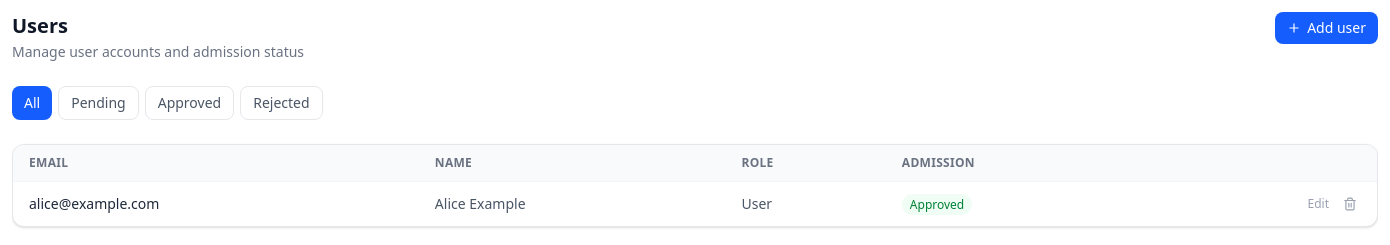
it: UsersPage › shows an empty state when no users match the filter
Check: the text "alice@example.com" is shown, box [13,182,419,226]
Click the button "Pending" at (98, 103), box [58,86,139,120]
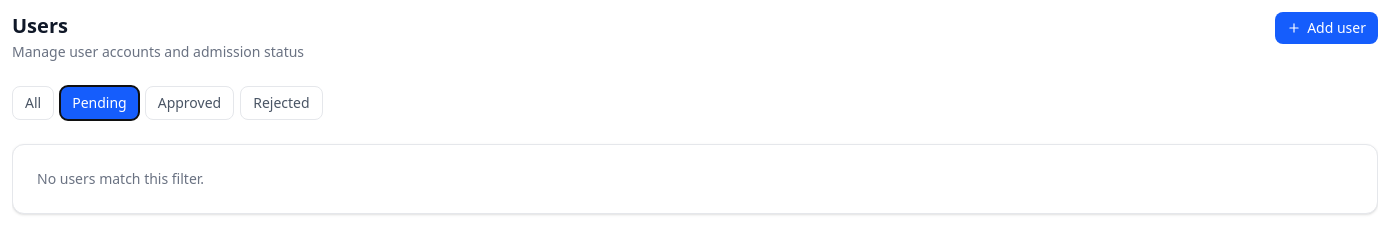
Check: the text "No users match this filter." is shown, box [37,169,204,188]
